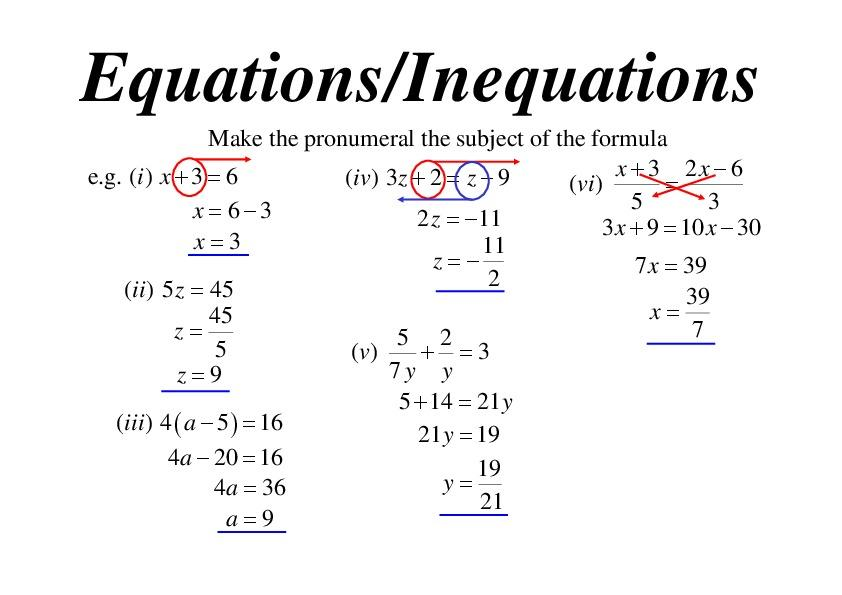paragraph: (70, 113, 794, 574)
title: (75, 29, 769, 122)
